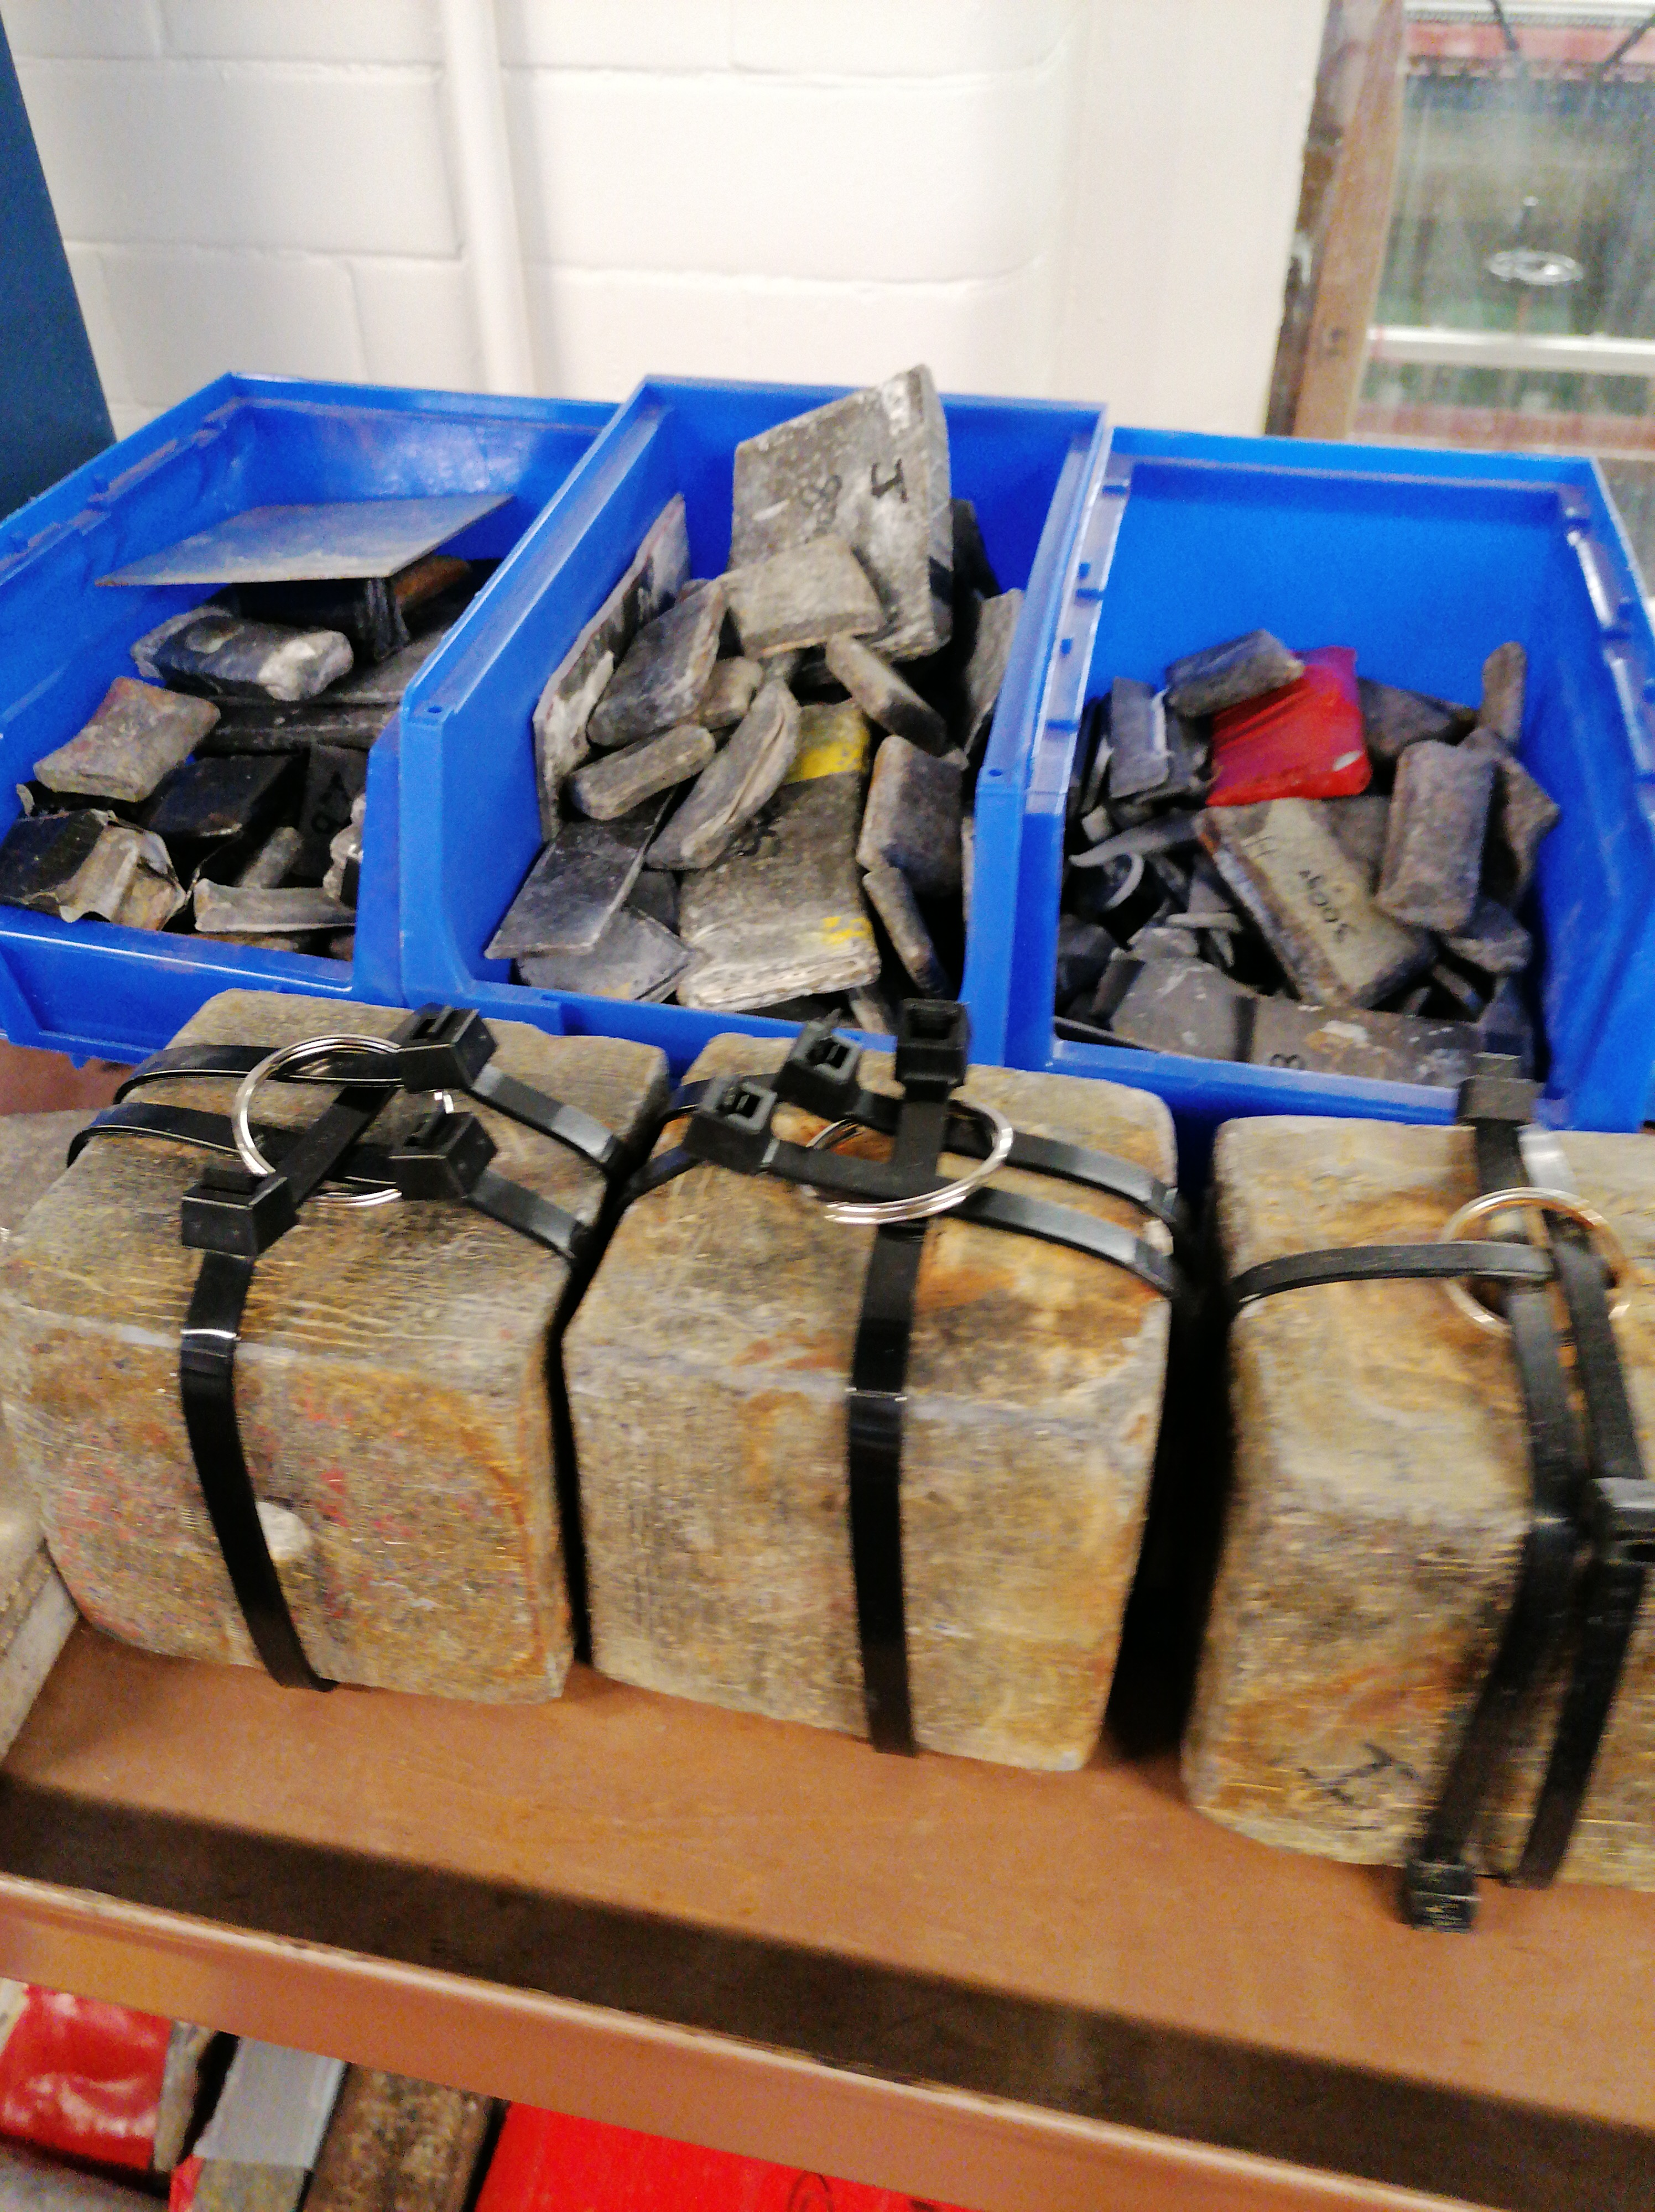lead_block: (560, 1006, 1189, 1769), (0, 983, 664, 1701), (1182, 1050, 1655, 1927)
